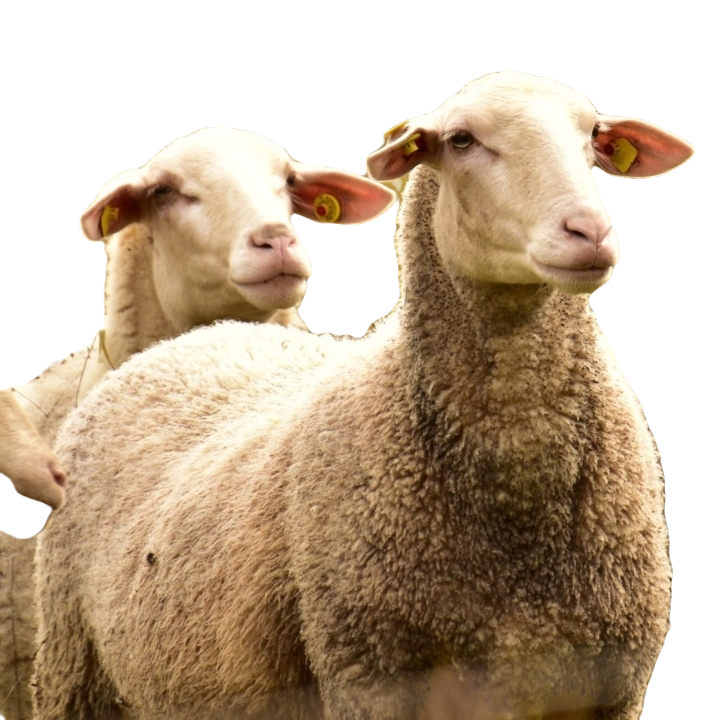Sheep: (364, 66, 693, 719), (76, 118, 393, 338)
